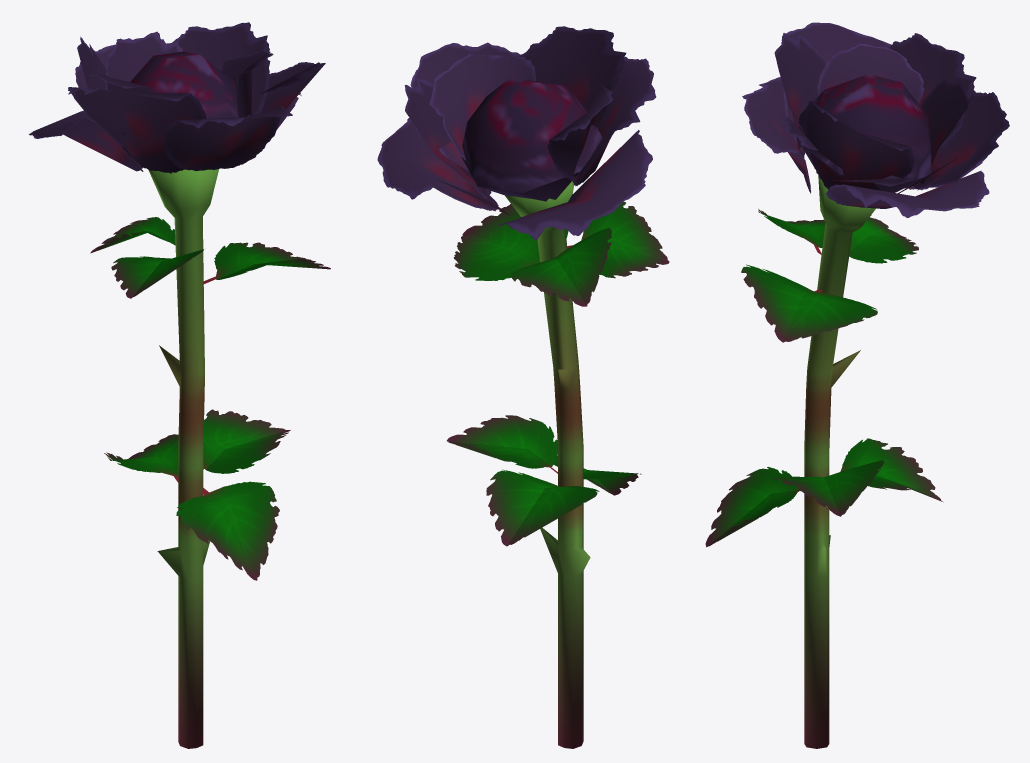
The model's file is Single_Black_Rose.fbx.
3 renders of one model, left to right at view 1: azimuth 30°, elevation 25°; view 2: azimuth 150°, elevation 25°; view 3: azimuth 270°, elevation 25°, orthographic. The views are drawn at different scales.
Parts seen in each view (by area): view 1: Single_Black_Rose; view 2: Single_Black_Rose; view 3: Single_Black_Rose.
Boxes of the visible parts, <box> form: Single_Black_Rose: <box>29,22,330,748</box>; Single_Black_Rose: <box>377,26,669,748</box>; Single_Black_Rose: <box>705,22,1009,748</box>.
Size of the model in its own units: 25.11 by 63.63 by 25.47.
Materials: 1 (1 with a texture image).
